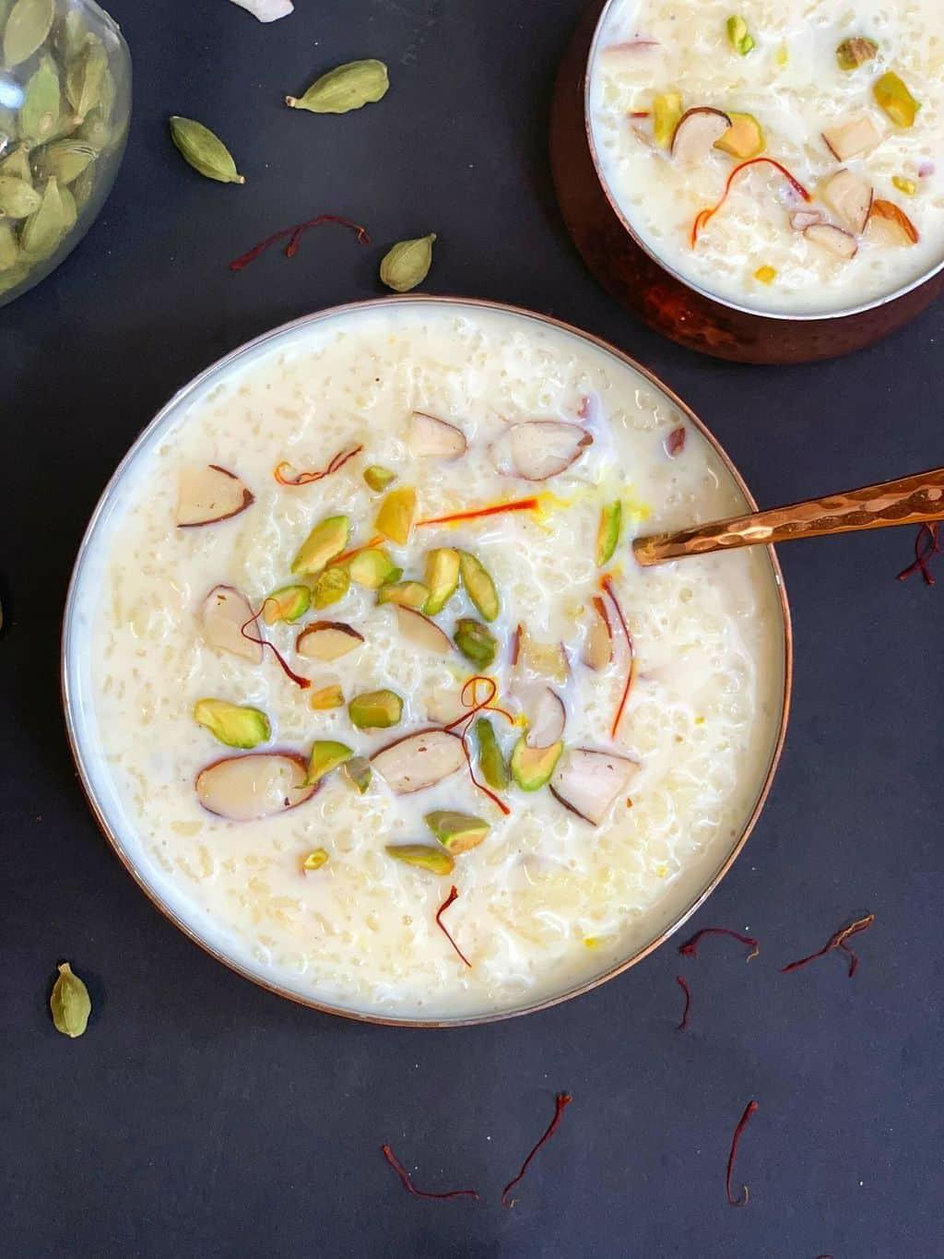Kheer: (82, 308, 776, 1006), (583, 0, 944, 318)
